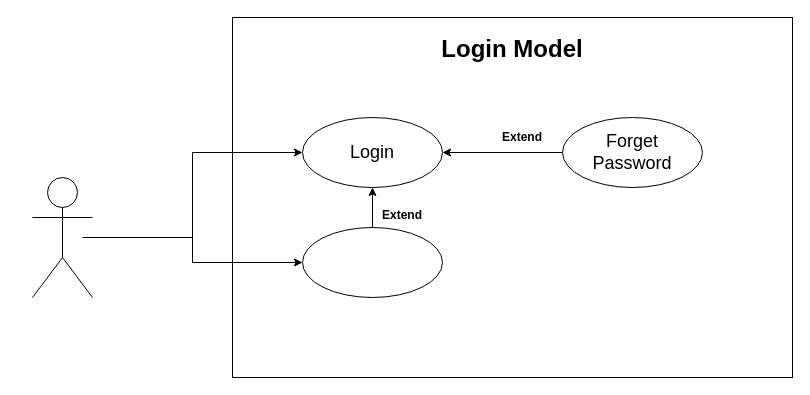
This 810x395 diagram has some shape labels left out. Each missing label, with the centre of its shape:
Emp & Sub Users: (x=62, y=237)
Logout: (x=372, y=262)
